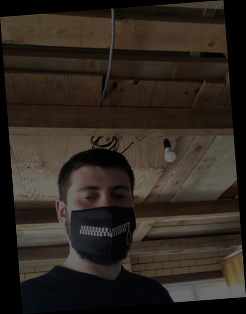with_mask: (69, 178, 136, 259)
